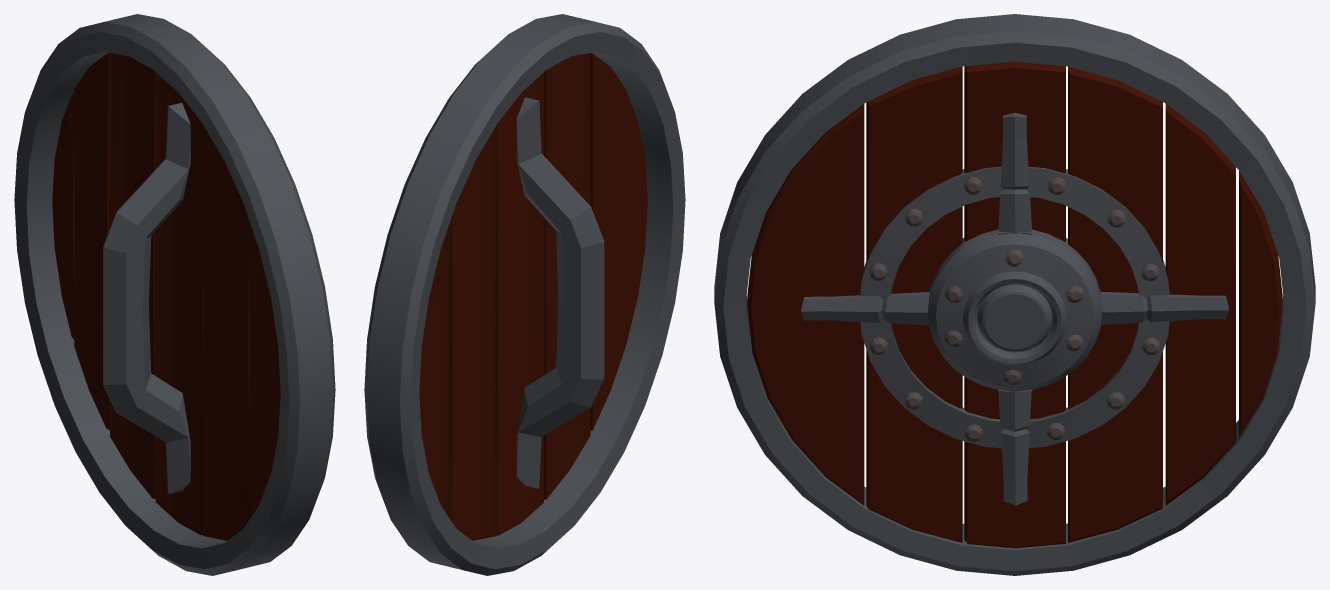
File: shield3.fbx
3 renders of one model, left to right at view 1: azimuth 30°, elevation 25°; view 2: azimuth 150°, elevation 25°; view 3: azimuth 270°, elevation 25°, orthographic. The views are drawn at different scales.
Visible parts, largest first — view 1: Cylinder.001, Cylinder, Cylinder.011; view 2: Cylinder.001, Cylinder, Cylinder.011; view 3: Cylinder.001, Cylinder, Cylinder.002, Cylinder.003, Cylinder.005, Cylinder.006, Cylinder.007, Cylinder.008, Cylinder.009.
Boxes of the visible parts, bbox=[...] form: Cylinder.001: bbox=[52, 52, 280, 540]; Cylinder: bbox=[14, 14, 335, 575]; Cylinder.011: bbox=[103, 102, 190, 494]; Cylinder.001: bbox=[419, 52, 647, 540]; Cylinder: bbox=[364, 14, 685, 575]; Cylinder.011: bbox=[516, 97, 604, 488]; Cylinder.001: bbox=[747, 62, 1282, 548]; Cylinder: bbox=[714, 14, 1315, 575]; Cylinder.002: bbox=[801, 112, 1031, 325]; Cylinder.003: bbox=[998, 291, 1228, 505]; Cylinder.005: bbox=[869, 177, 982, 280]; Cylinder.006: bbox=[1048, 177, 1159, 281]; Cylinder.007: bbox=[1046, 337, 1160, 439]; Cylinder.008: bbox=[870, 337, 982, 441]; Cylinder.009: bbox=[945, 249, 1084, 303].
Bounding box in the file's own units: 52.07 × 200 × 200.
